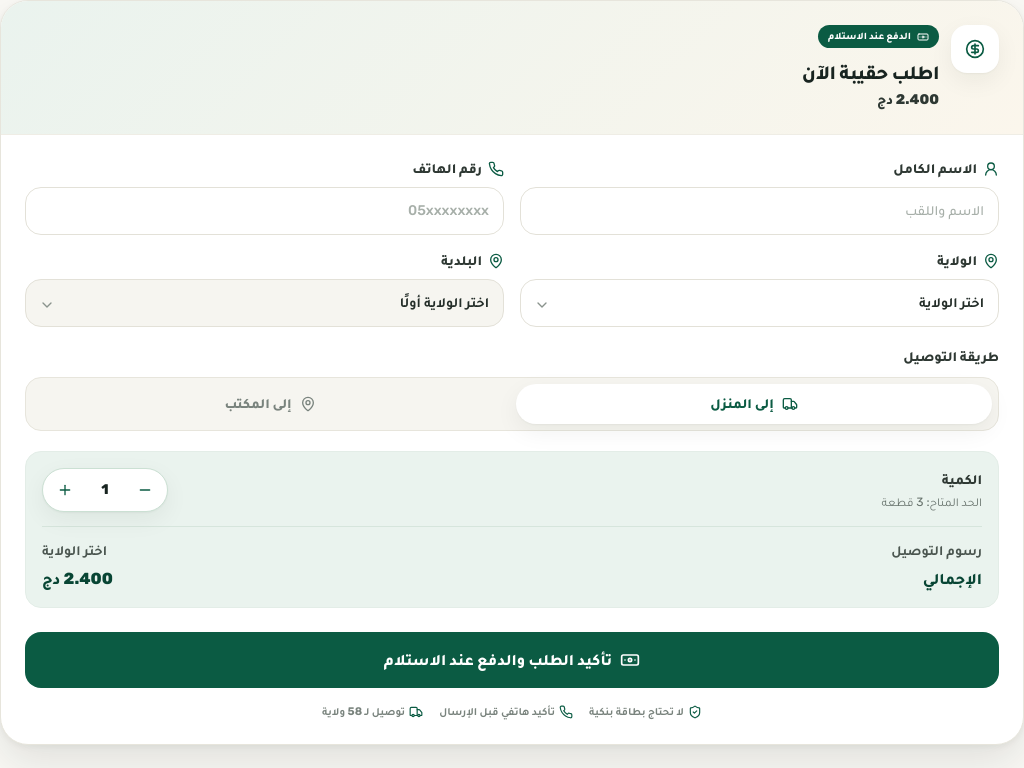
Scenario: DirectCodOrderForm › uses linked wilaya and commune selections, sends quantity, then shows confirmation without WhatsApp redirect
The image size is (1024, 768).
Type "ليلى أحمد" into the field with placeholder "الاسم واللقب". click: (760, 210)
box: x1=520 y1=186 x2=999 y2=234
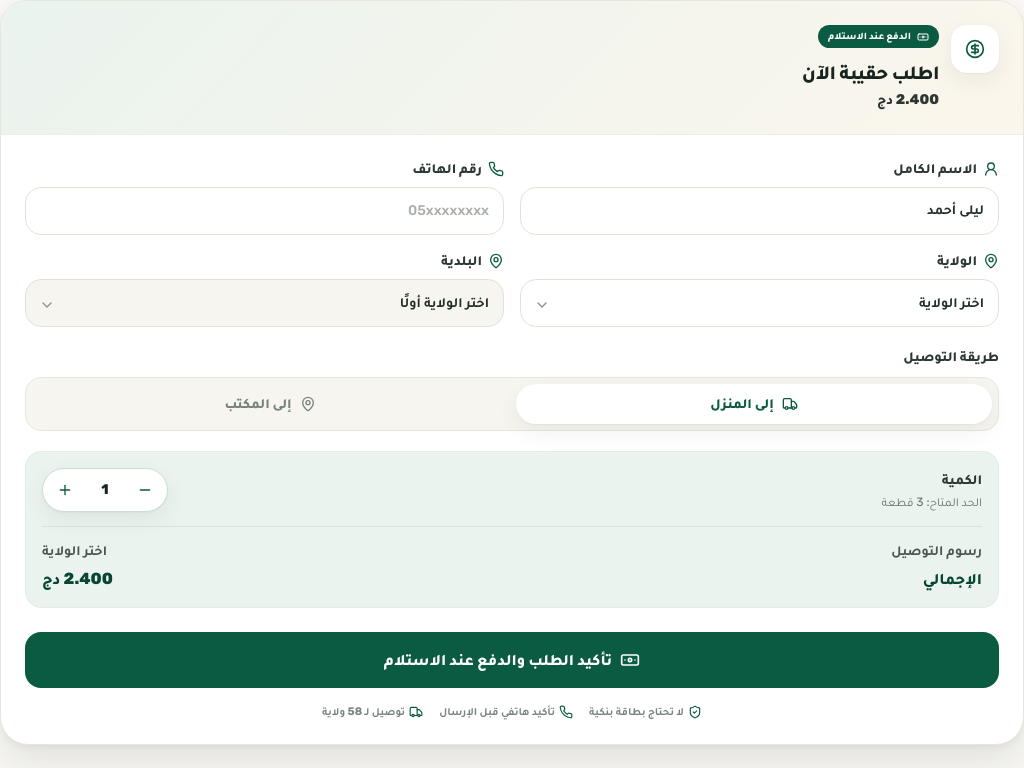
Type "0550000000" into the field with placeholder "05xxxxxxxx". click: (264, 210)
box: x1=25 y1=186 x2=504 y2=234
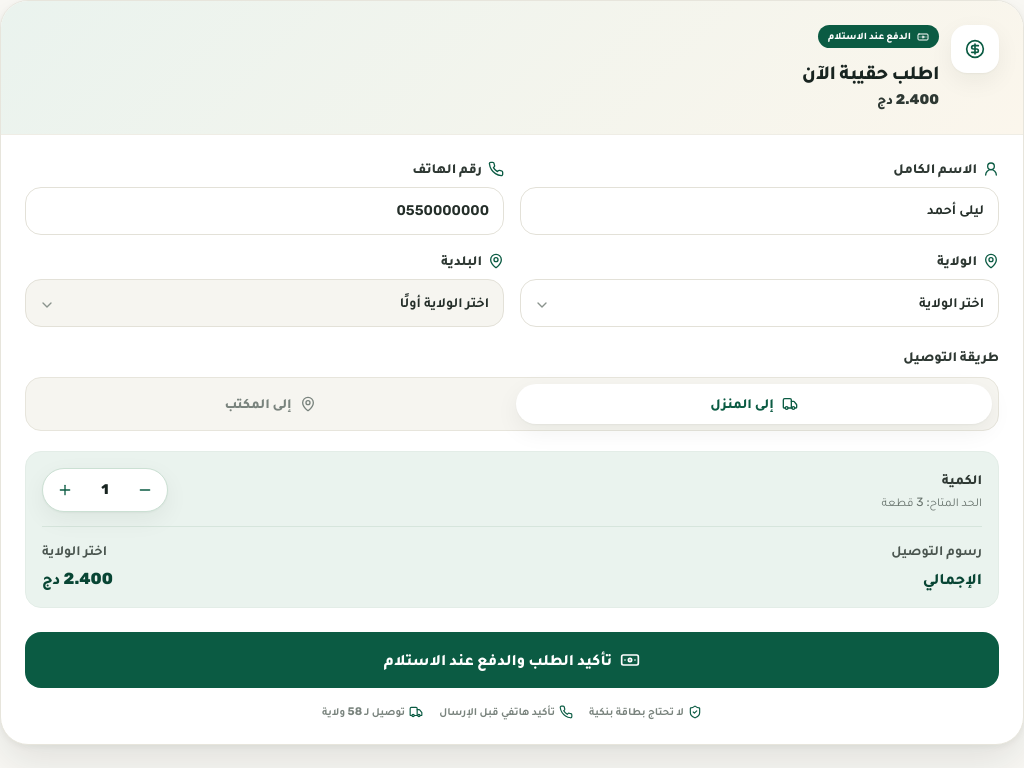
Select "31 · وهران" in the dropdown labelled "الولاية". click: (760, 302)
box: x1=520 y1=278 x2=999 y2=326
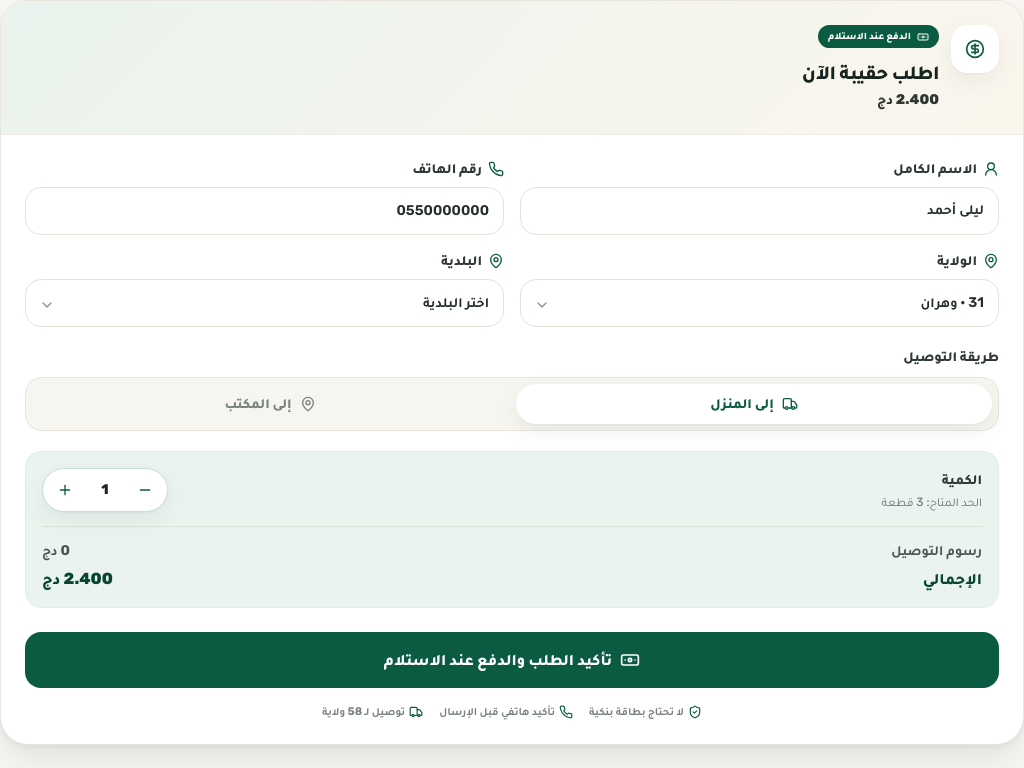
Select "السانية" in the dropdown labelled "البلدية". click: (264, 302)
box: x1=25 y1=278 x2=504 y2=326
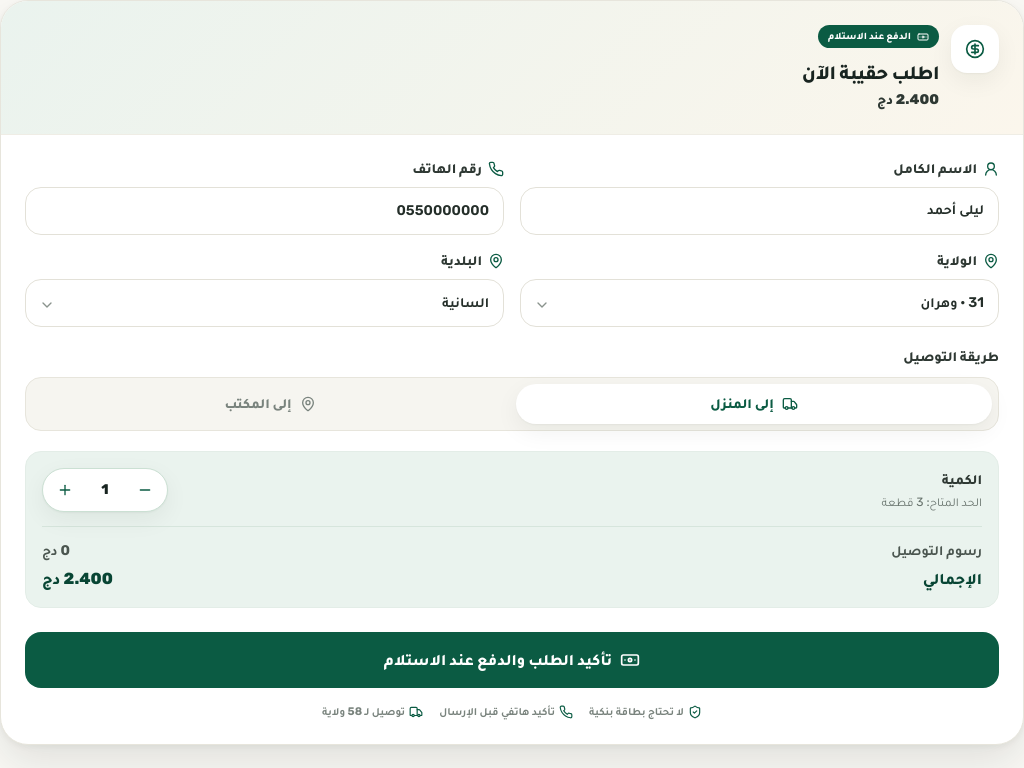
Click the button named "زيادة الكمية". click: (65, 490)
box: x1=43 y1=468 x2=87 y2=512
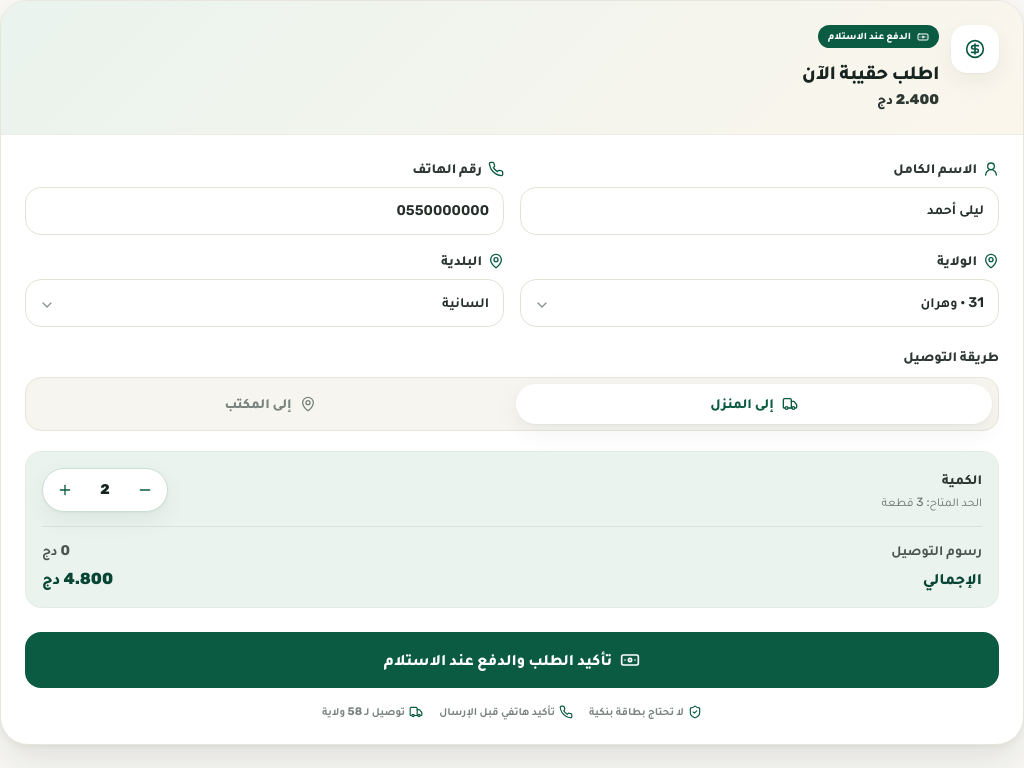
Click the button "تأكيد الطلب والدفع عند الاستلام". click: (512, 660)
box: x1=25 y1=632 x2=999 y2=688
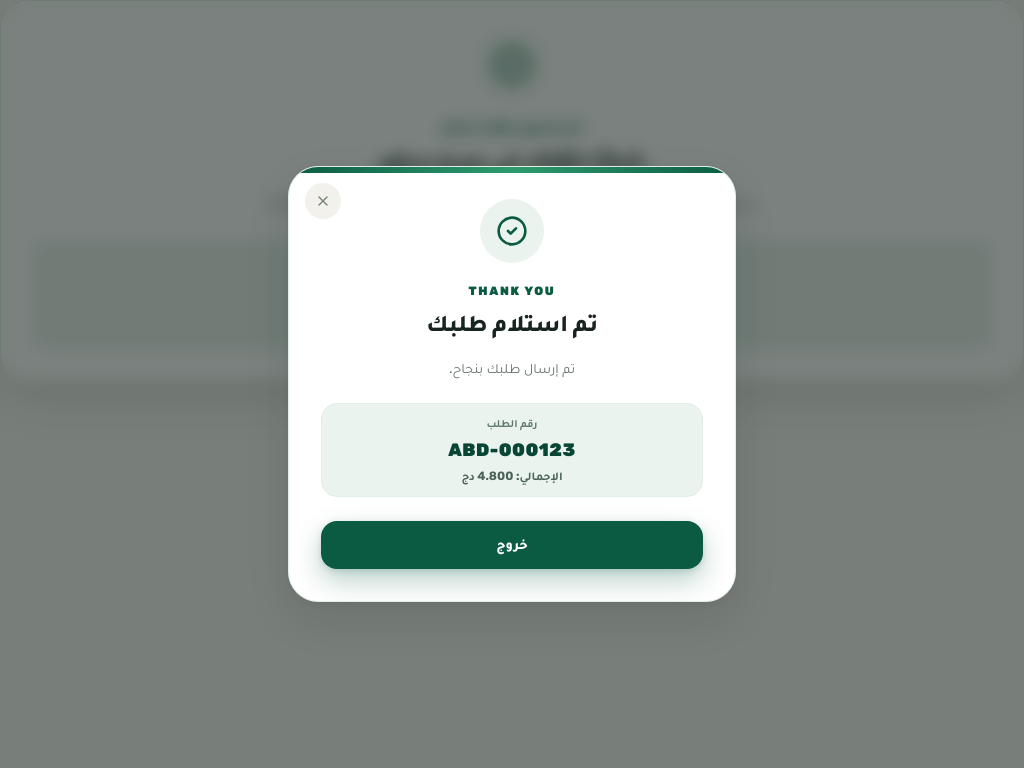
Expected: the dialog is shown
